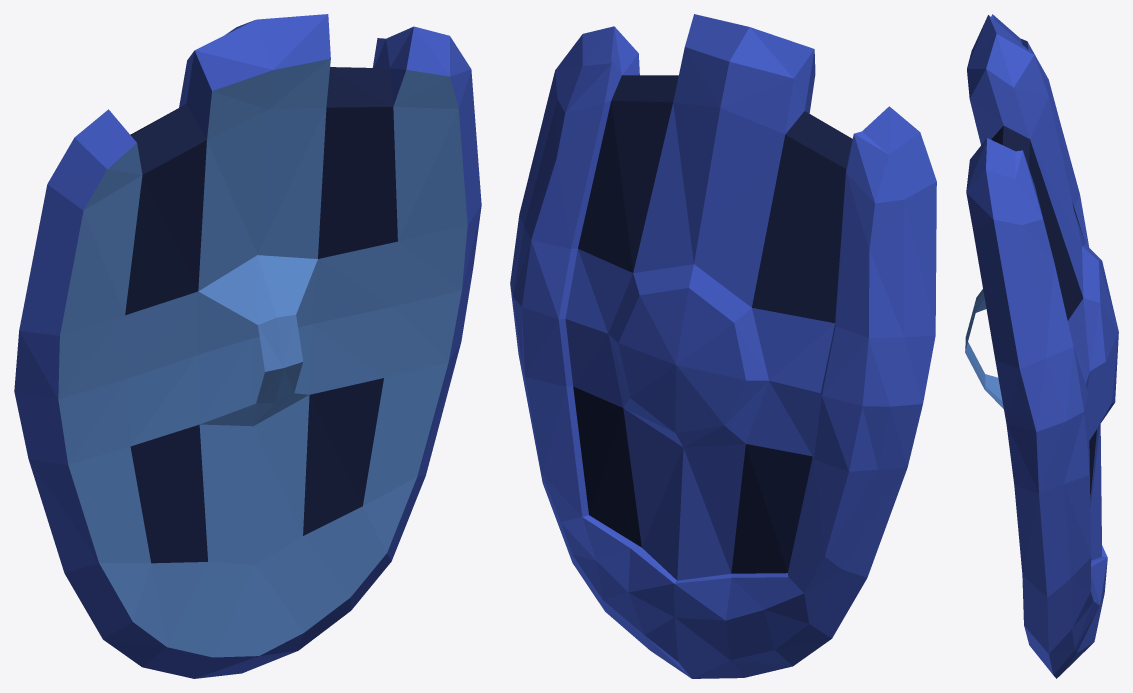
File: rune_shield.glb
The picture shows the model from 3 angles, left to right: view 1: azimuth 30°, elevation 25°; view 2: azimuth 150°, elevation 25°; view 3: azimuth 270°, elevation 25°; orthographic projection. The views are drawn at different scales.
Parts seen in each view (by area): view 1: rune_shield; view 2: rune_shield; view 3: rune_shield.
Boxes of the visible parts, x1,y1,x2,y2 form: rune_shield: [14, 14, 481, 678]; rune_shield: [510, 14, 936, 678]; rune_shield: [965, 14, 1118, 678].
Size of the model in its own units: 0.6981 by 1 by 0.2231.
